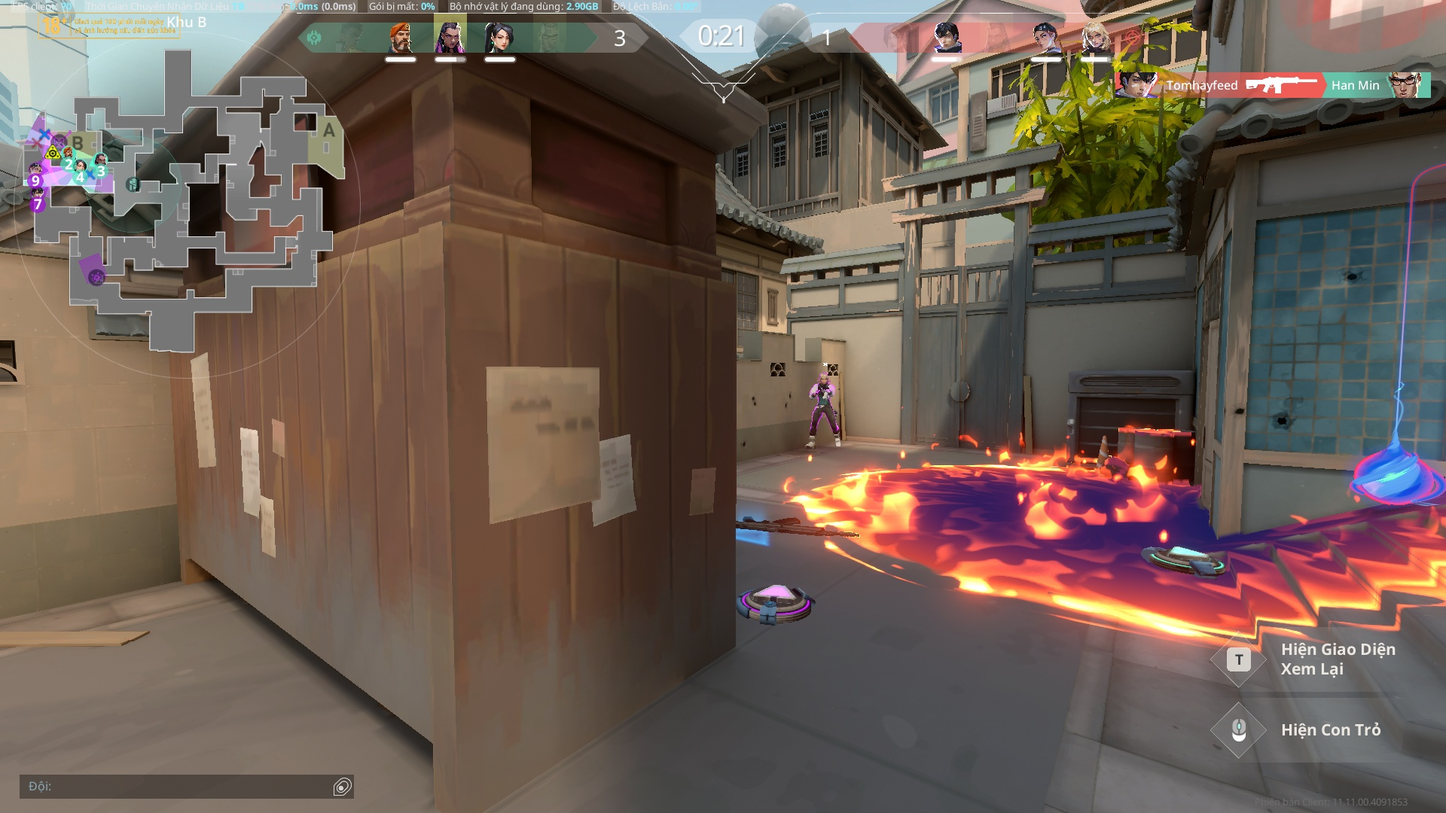body: (810, 382, 834, 404)
head: (817, 372, 828, 385)
